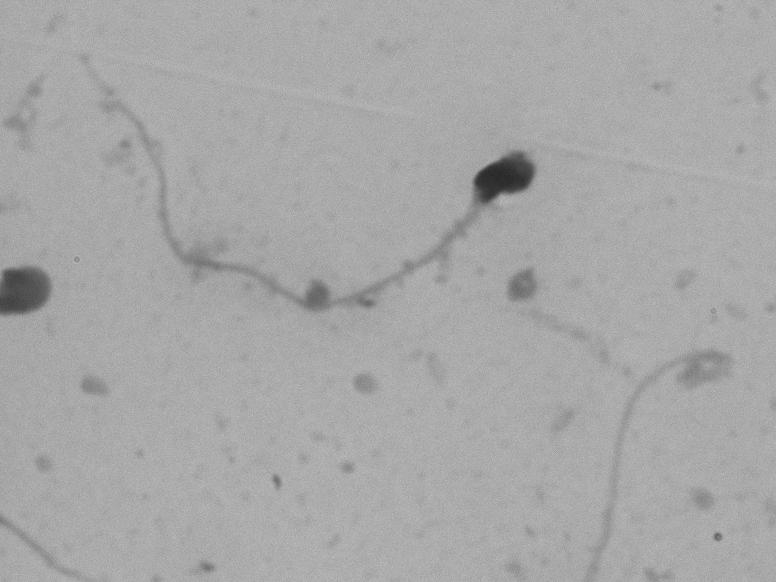Abnormal: (88, 52, 559, 348)
